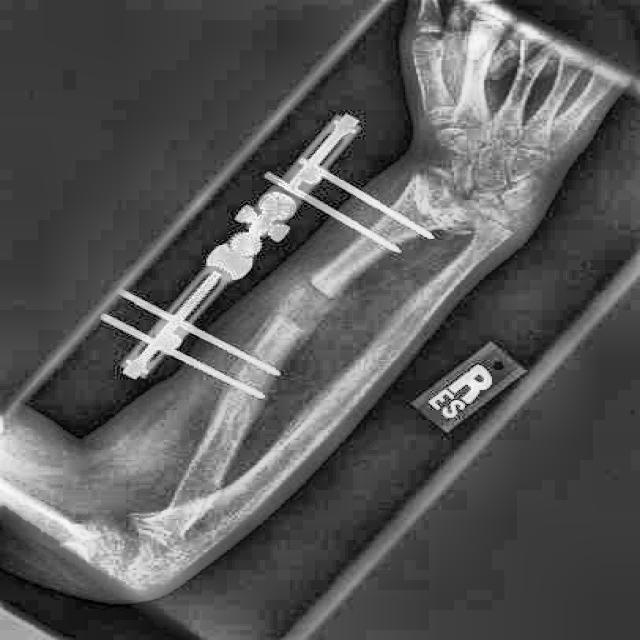forearm fracture: (234, 254, 380, 358)
